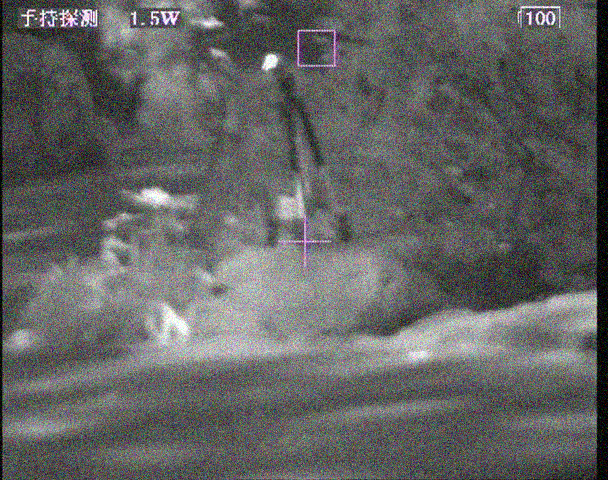my: (261, 53, 278, 71)
